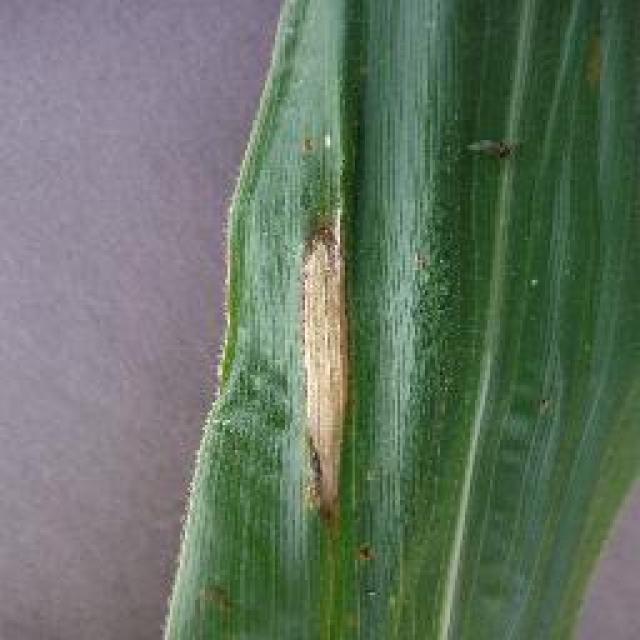Corn___Northern_Leaf_Blight: (138, 0, 638, 640)
